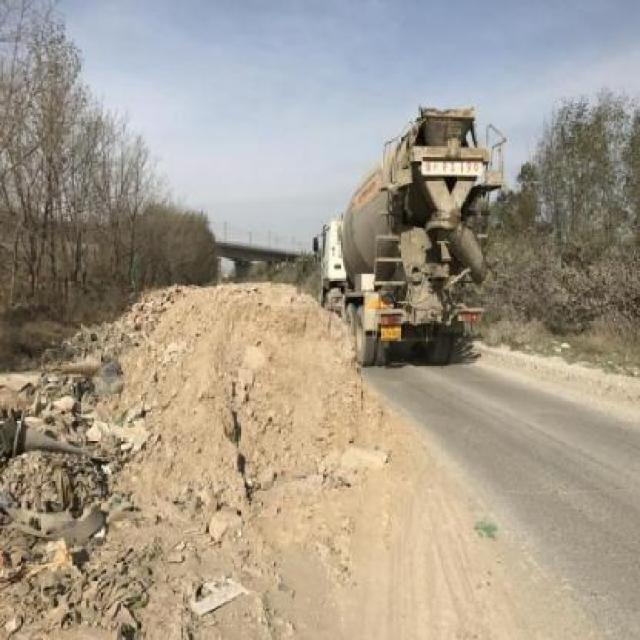garbage: (0, 365, 252, 639), (140, 272, 361, 503)
